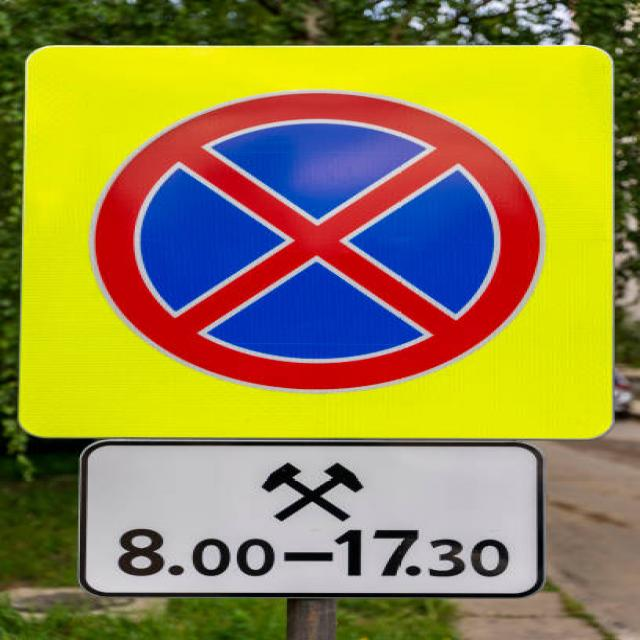no_parking: (86, 87, 551, 399)
